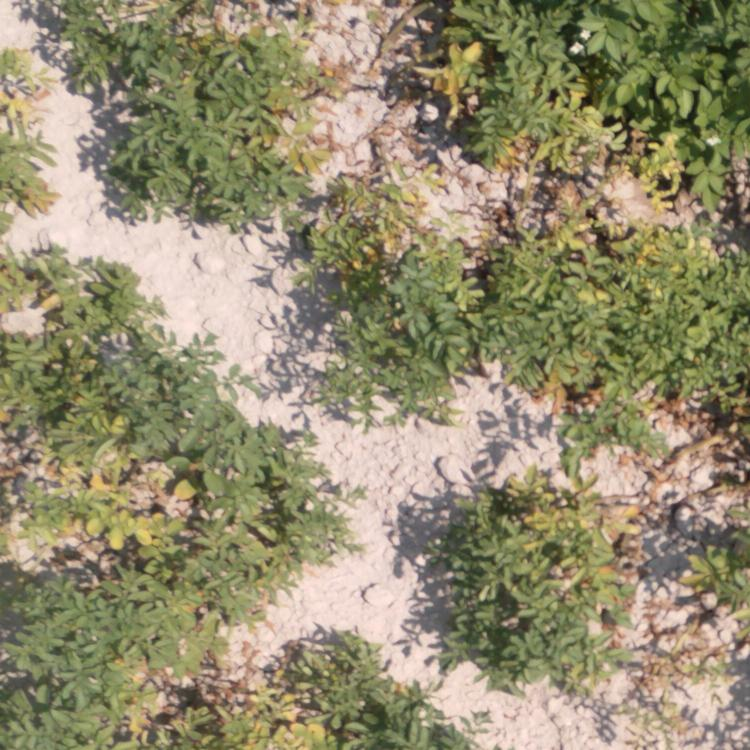healthy: (526, 4, 750, 89), (1, 582, 103, 747), (127, 58, 215, 204)
stressed: (488, 213, 750, 407), (1, 252, 124, 552), (328, 174, 481, 415), (112, 649, 445, 750), (453, 491, 631, 678), (131, 345, 253, 548), (501, 95, 750, 186), (232, 55, 324, 211), (408, 8, 501, 146), (71, 1, 314, 48), (262, 440, 345, 561), (113, 572, 265, 636), (1, 47, 49, 242), (685, 505, 750, 640)
